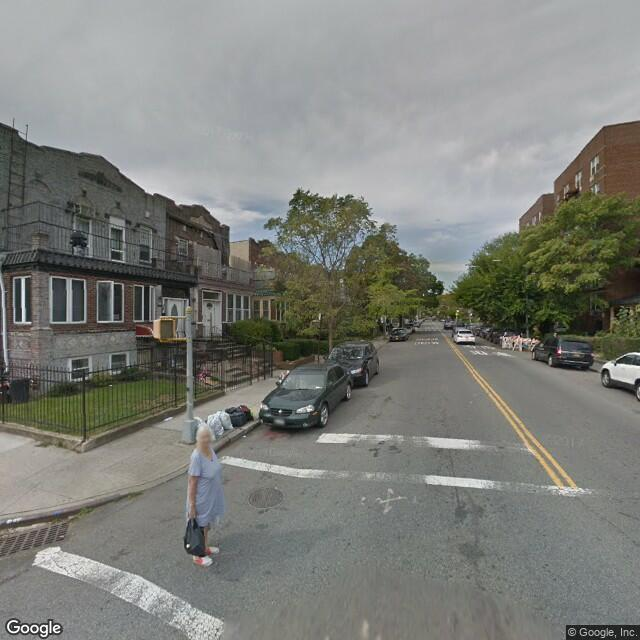litter: (66, 512, 77, 526), (163, 414, 174, 422)
